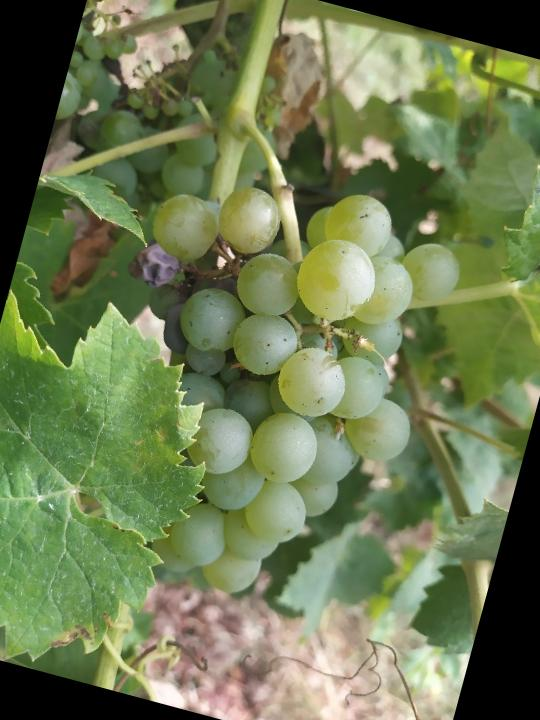grape: (60, 140, 476, 634)
